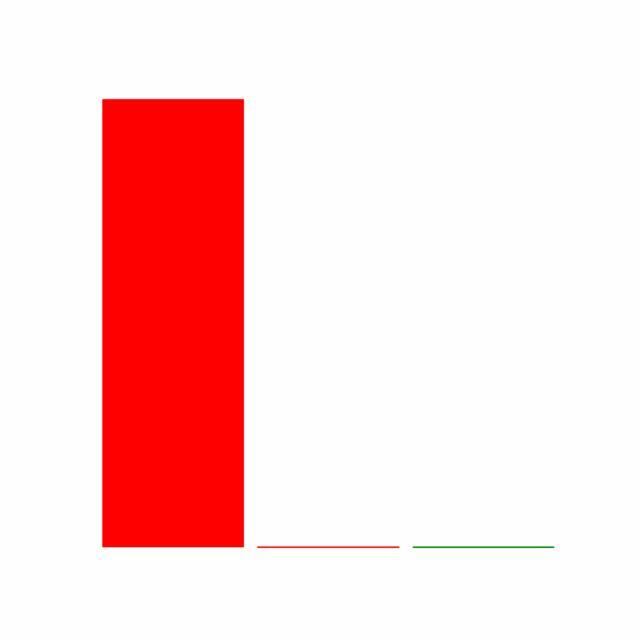Hammer: (406, 546, 562, 548)
